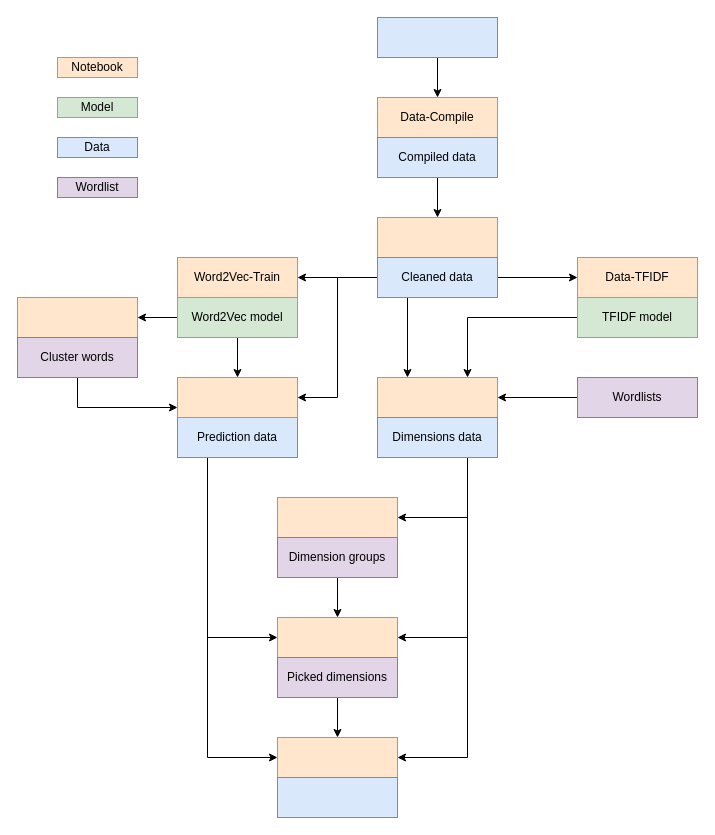
Some shapes in this 715 by 835 pixel diagram are drawn without their labels. Each missing label, with the centre of its shape:
"Data-Clean" belongs at point 437,237.
"Dimensions-Calculate" belongs at point 437,397.
"Dimensions-Correlation" belongs at point 337,517.
"Raw data" belongs at point 437,37.
"Regression" belongs at point 337,797.
"Regression-Final" belongs at point 337,757.
"Regression-optuna" belongs at point 337,637.
"Word2Vec-Cluster" belongs at point 77,317.
"Word2Vec-Predict" belongs at point 237,397.
